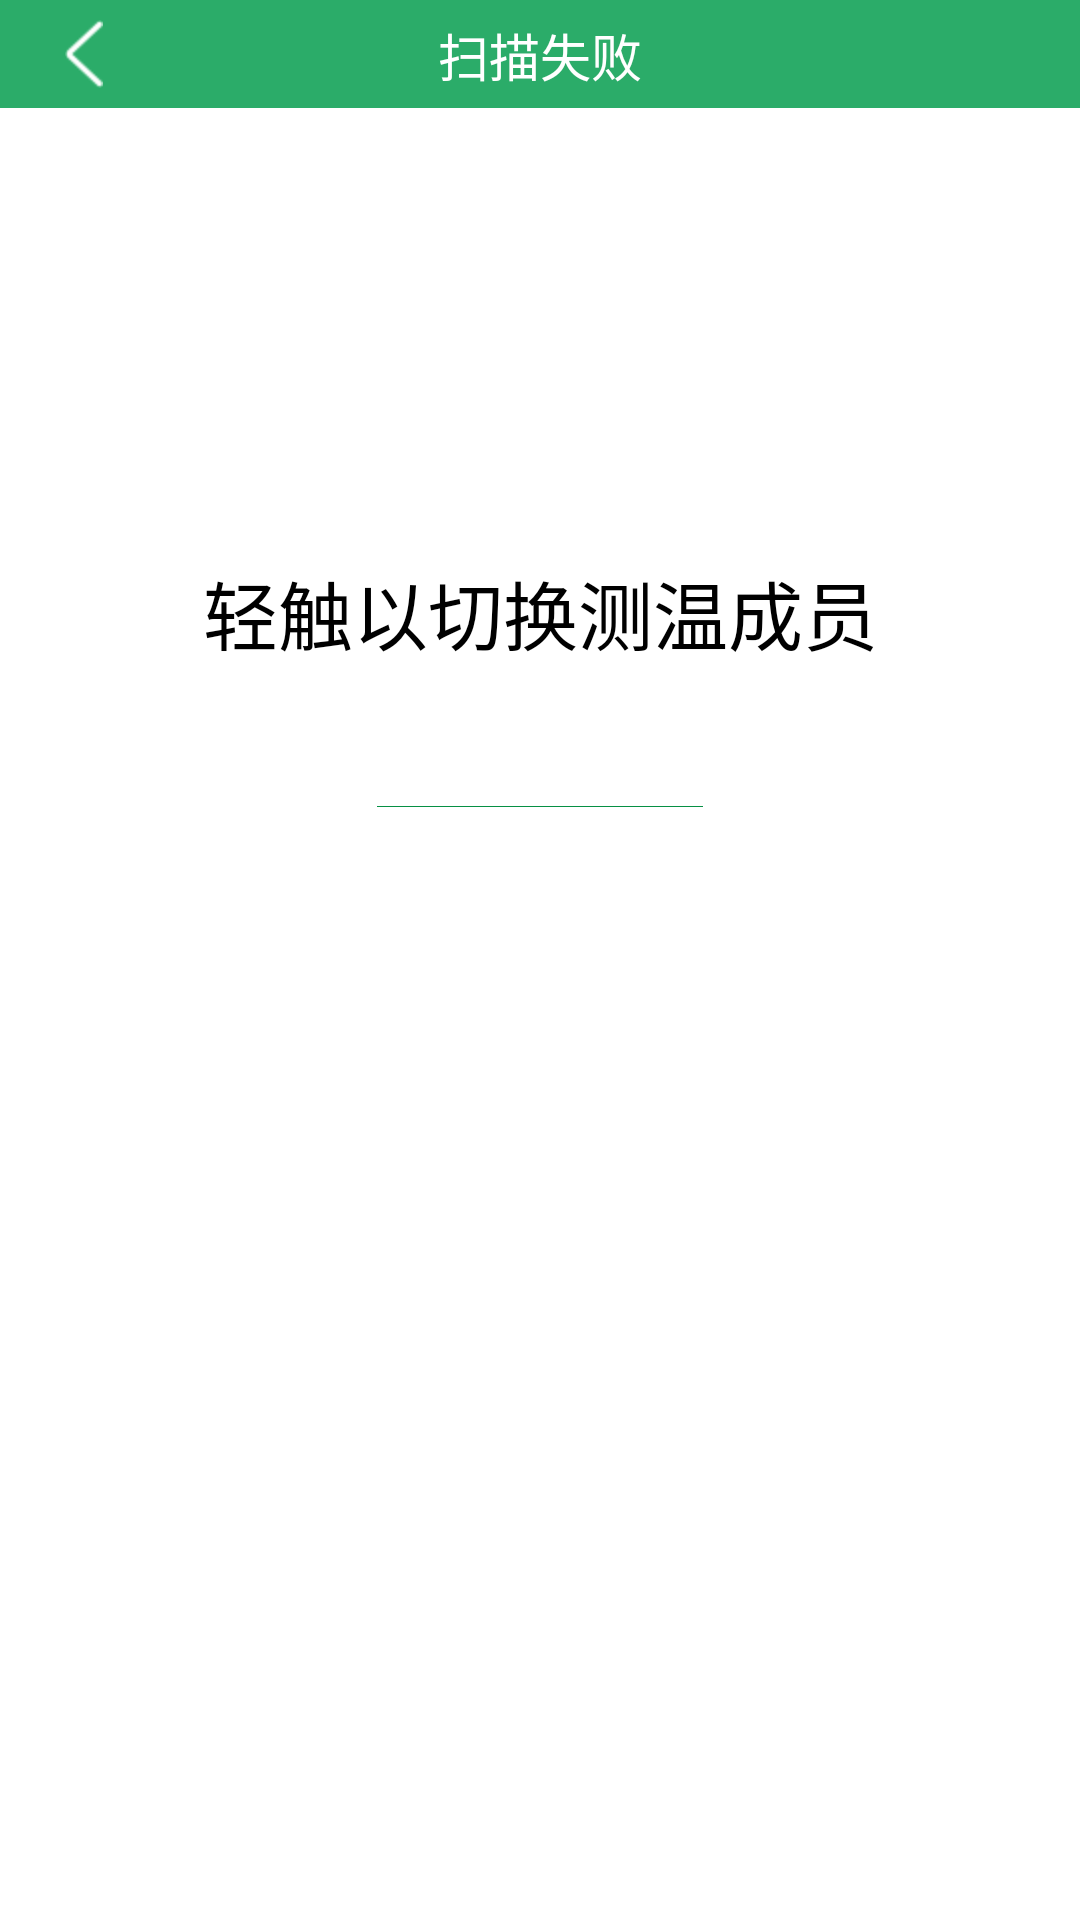

Icon bounding boxes for this 1080*1920 phone screenshot, format Rect(x1, y1, x2, y2):
back: Rect(65, 20, 103, 88)
